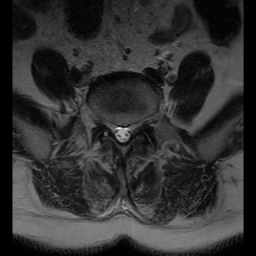CCS_stenosis: (120, 119, 126, 149)
LFS_normal: (134, 115, 143, 138)
LLS_normal: (127, 120, 134, 144)
RFS_stenosis: (103, 113, 112, 135)
RLS_normal: (112, 120, 120, 144)
